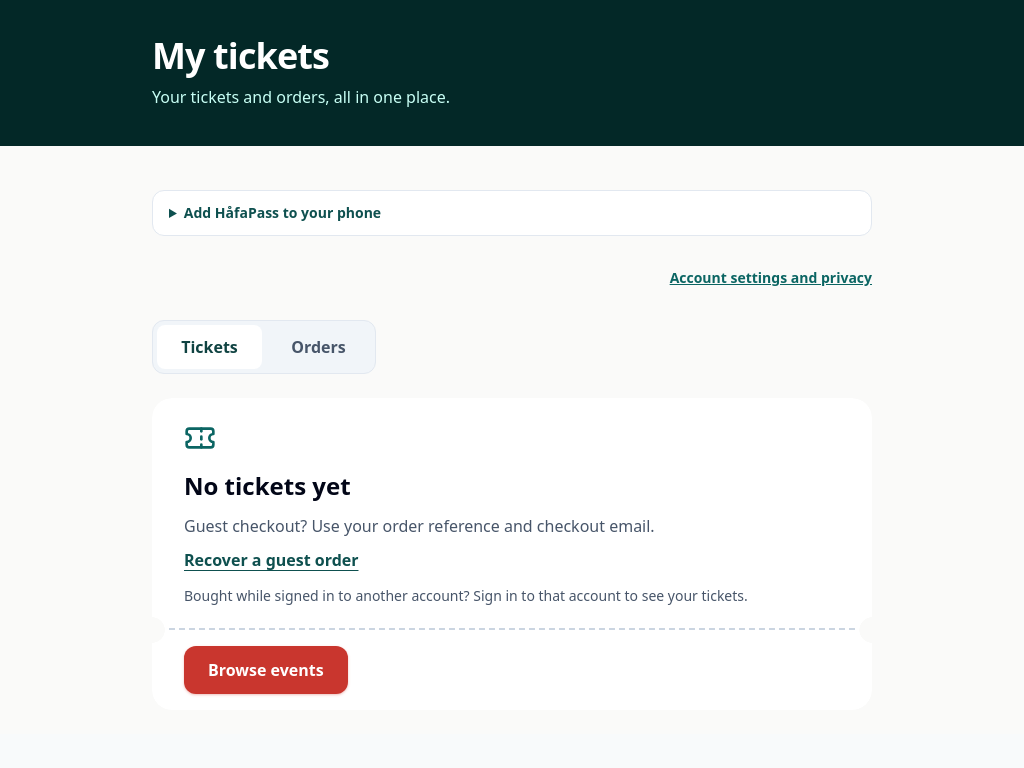
Test: MyTicketsPage orders tab › shows every purchased item, including an add-on-only order, and hides zero discount and refund rows
This screenshot has width=1024, height=768.
Click the tab "Orders". click: [318, 347]
box: [266, 325, 371, 369]
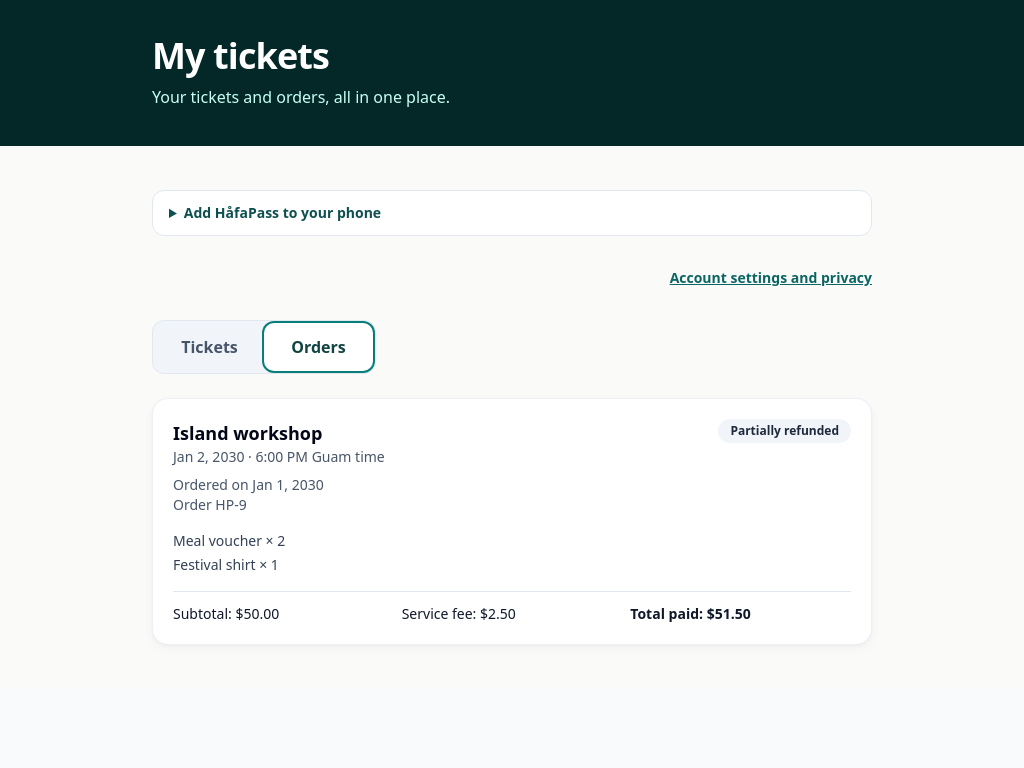
Result: the list item "Meal voucher × 2" is shown at [173, 531, 285, 550]
Result: the list item "Festival shirt × 1" is shown at [173, 555, 279, 574]
